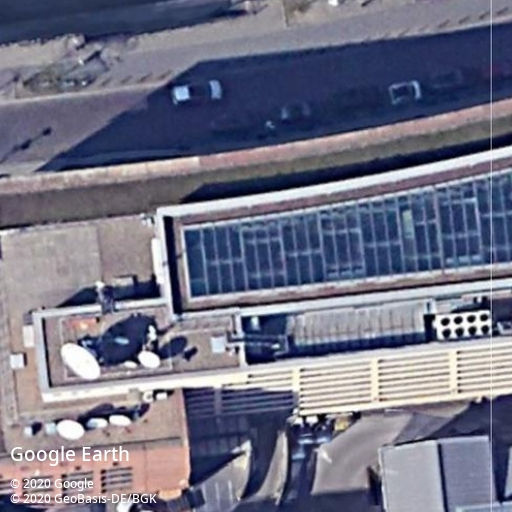Chiller: (436, 308, 493, 341)
